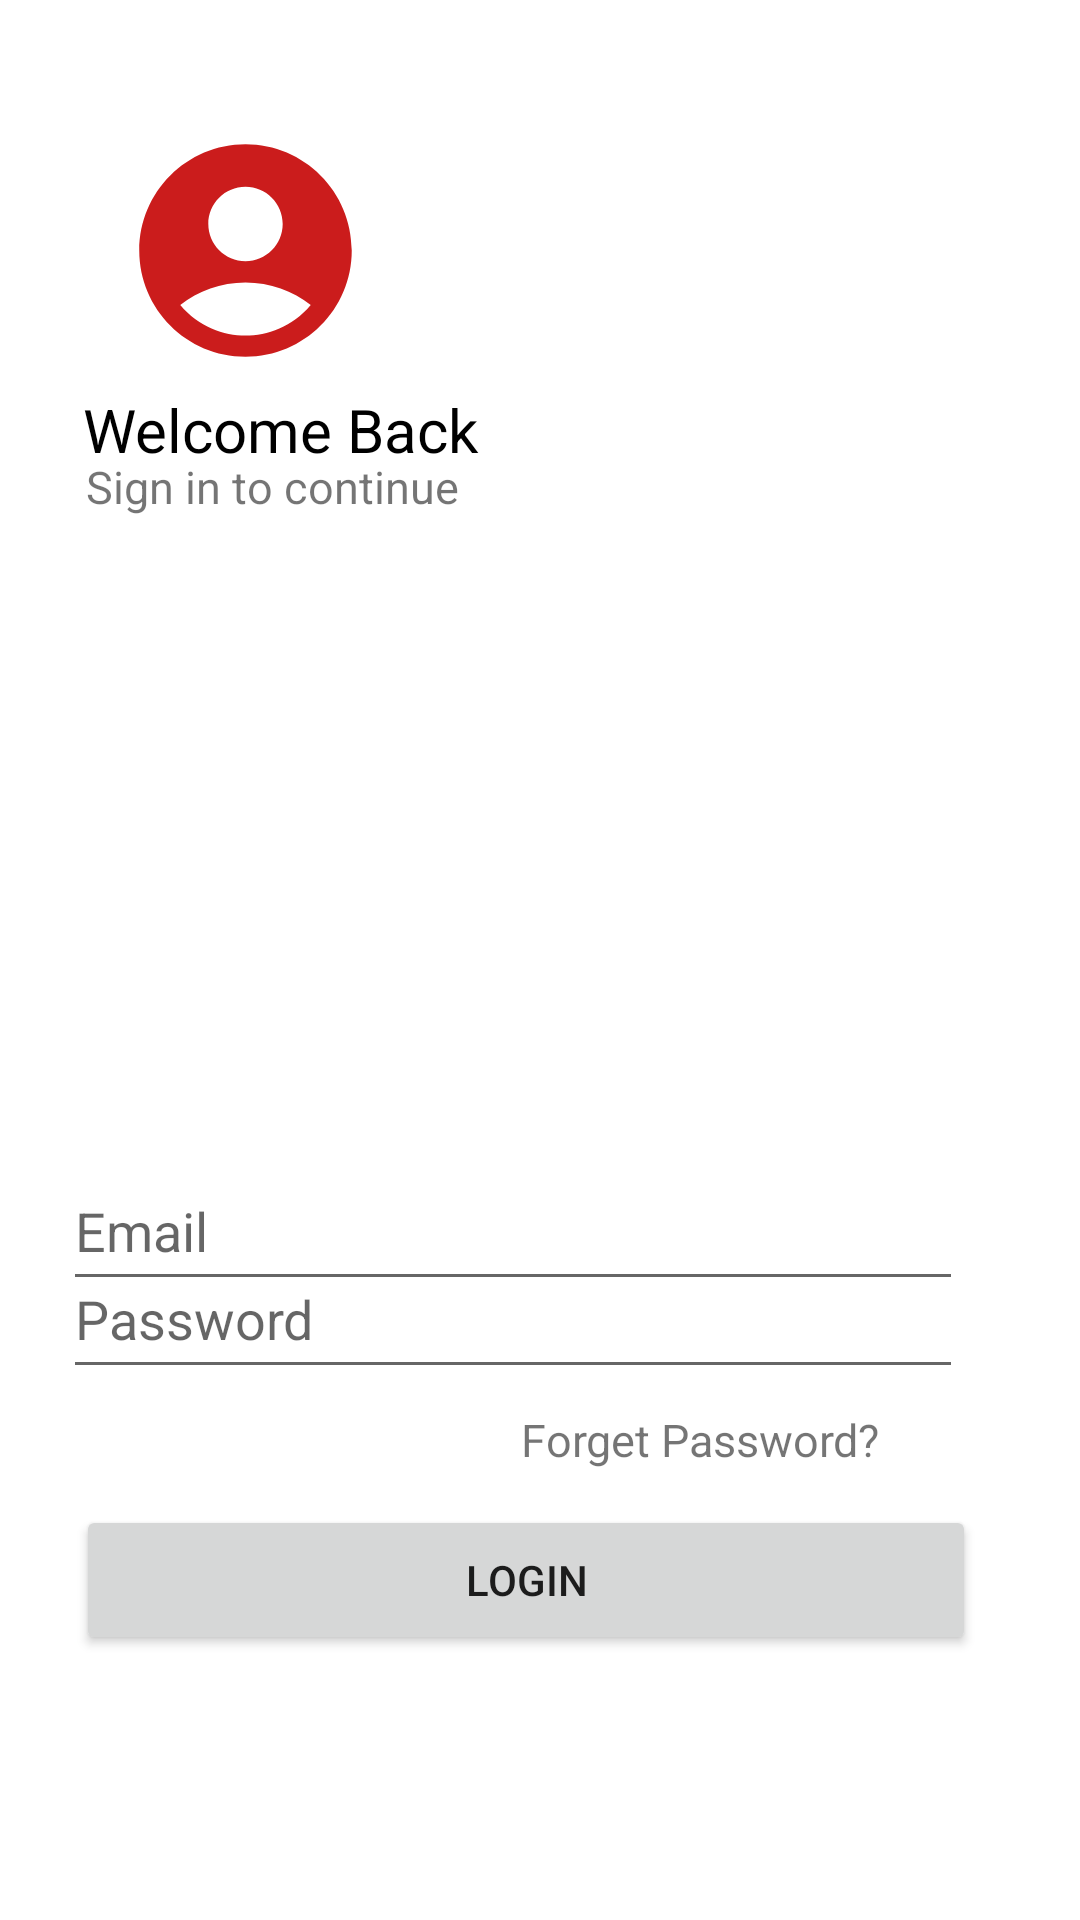

Where icons sit on this 1080×1920 app screen, as box=[x1, y1, x2, y2]:
account circle: box=[139, 144, 352, 357]
